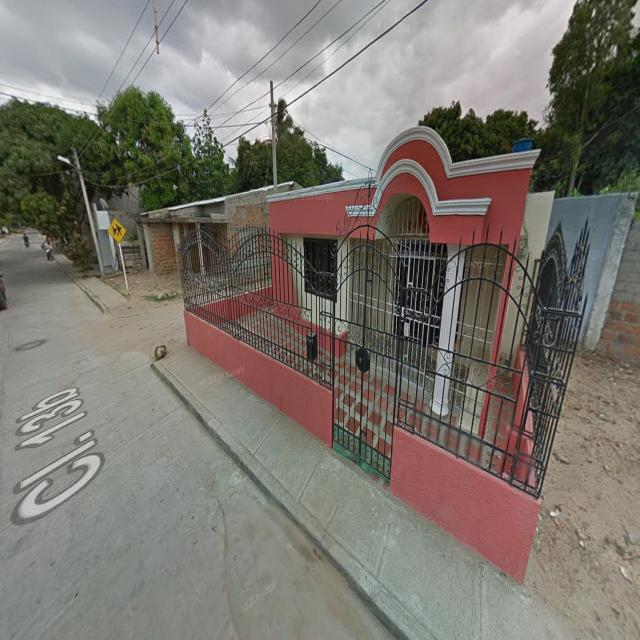Casa: (179, 126, 588, 583), (140, 187, 273, 275)
